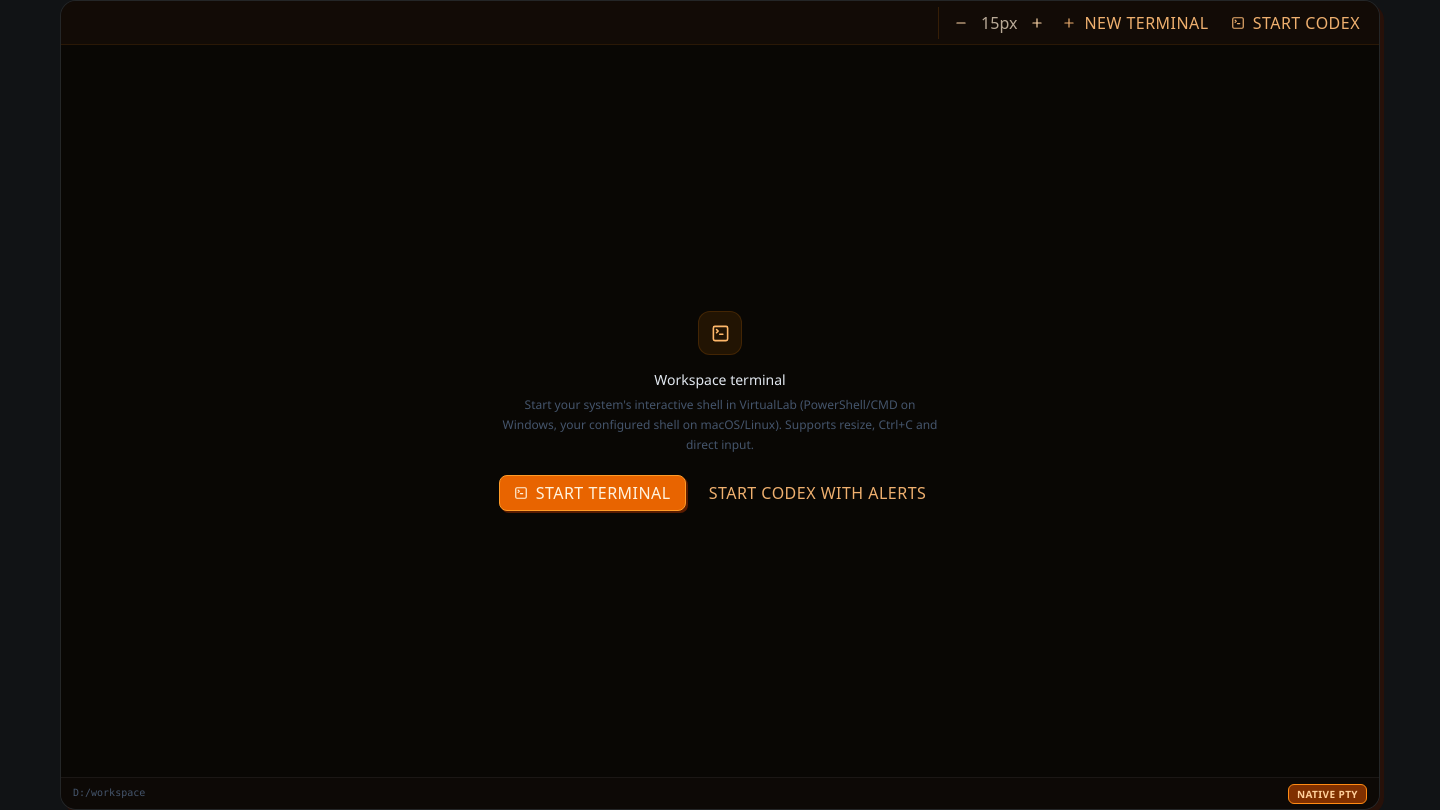
Scenario: TerminalWorkspace native PTY lifecycle › closes an individual terminal and releases its tab
Click the button "Start terminal" at (592, 493), box [499,475,686,511]
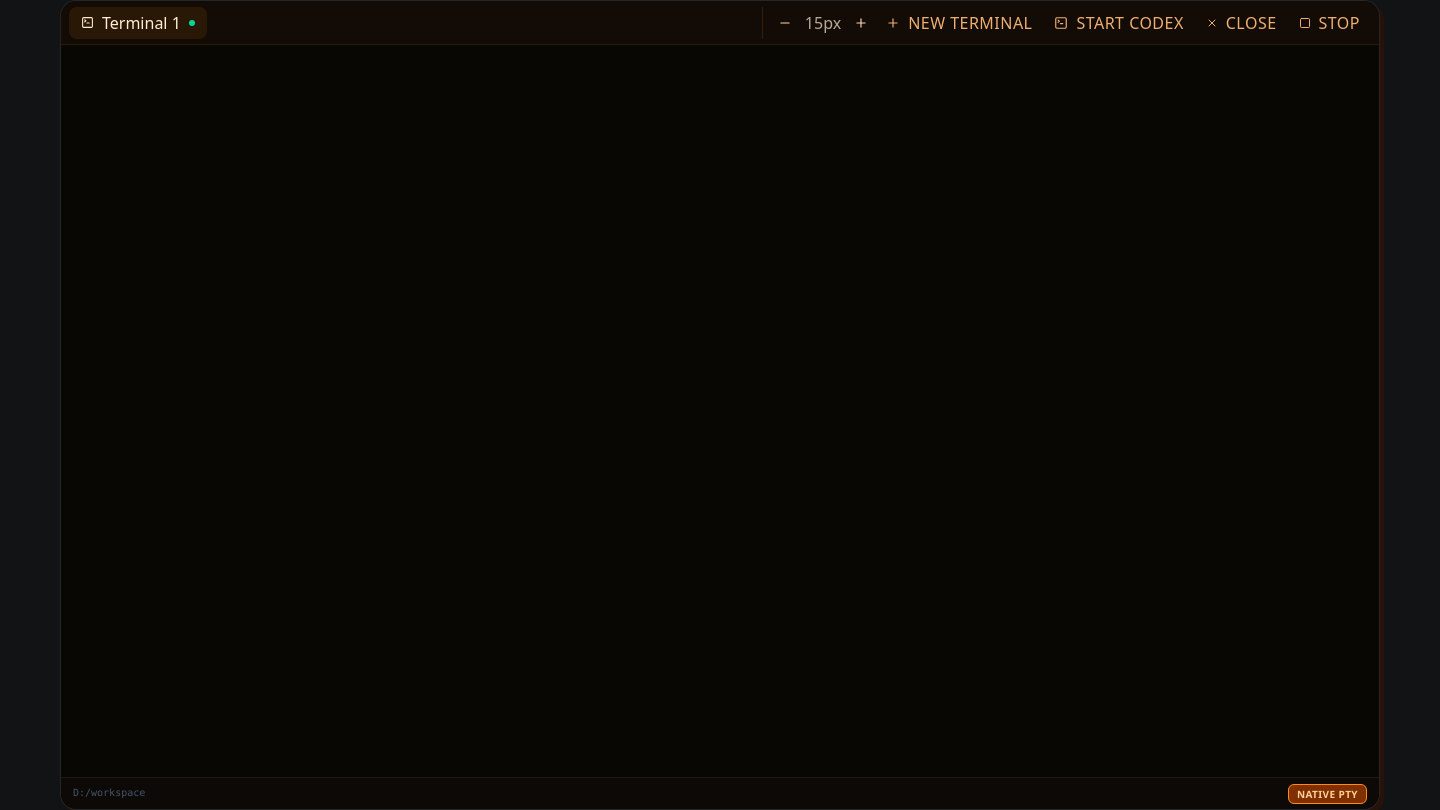
Result: the button "Terminal 1" is shown at [69,6,207,38]
Click the button with aria-label "close terminal" at (1241, 22), box [1195,6,1288,38]
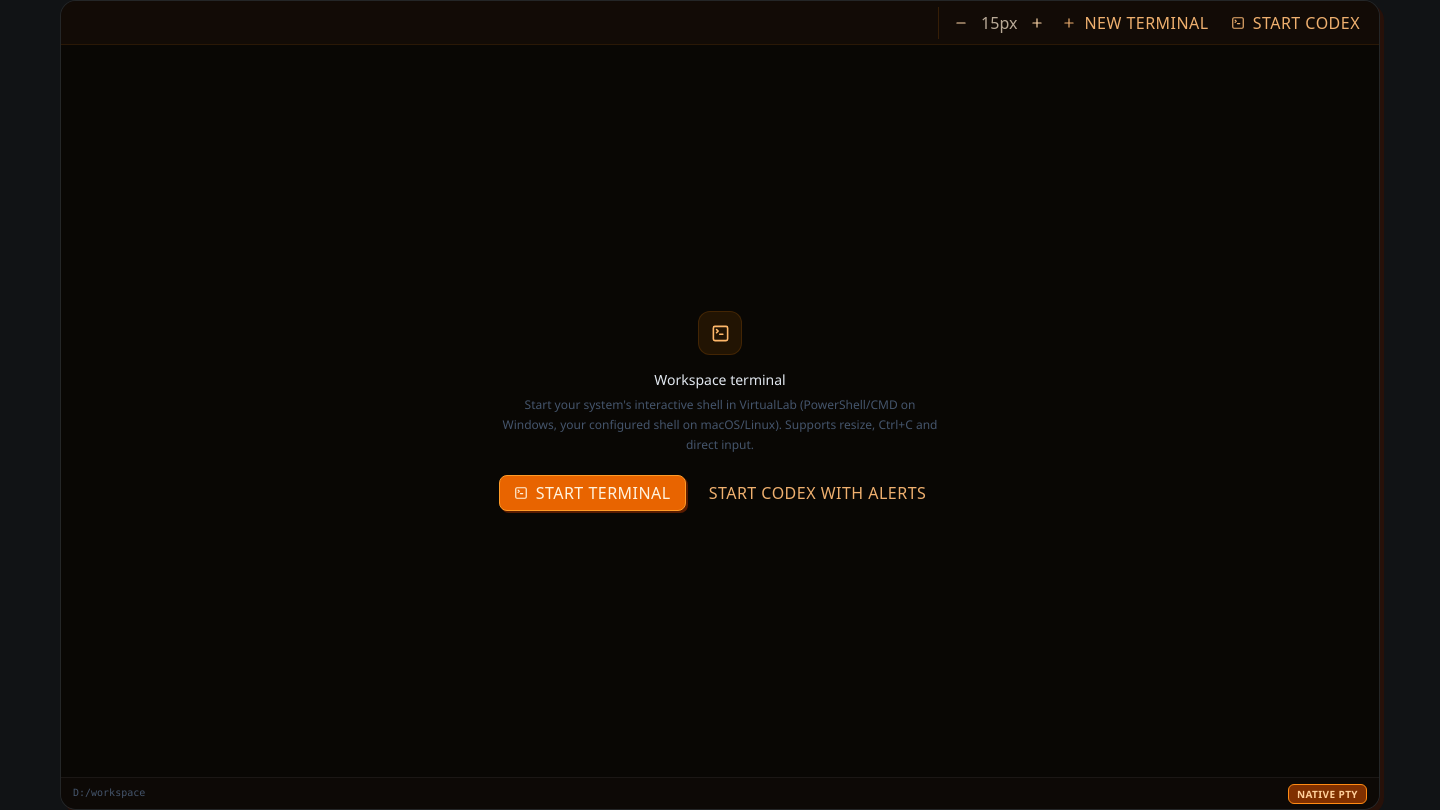
Result: the button "Terminal 1" is gone
Result: the button "Start terminal" is shown at [499,475,686,511]
